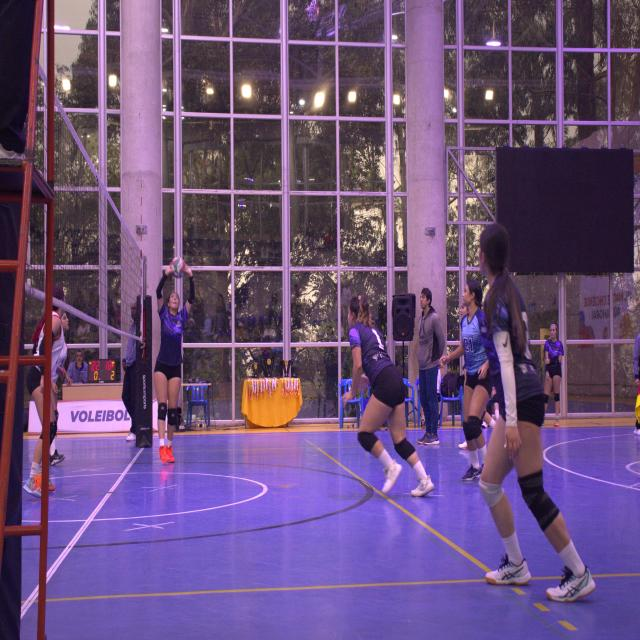volleyball: (170, 256, 186, 278)
